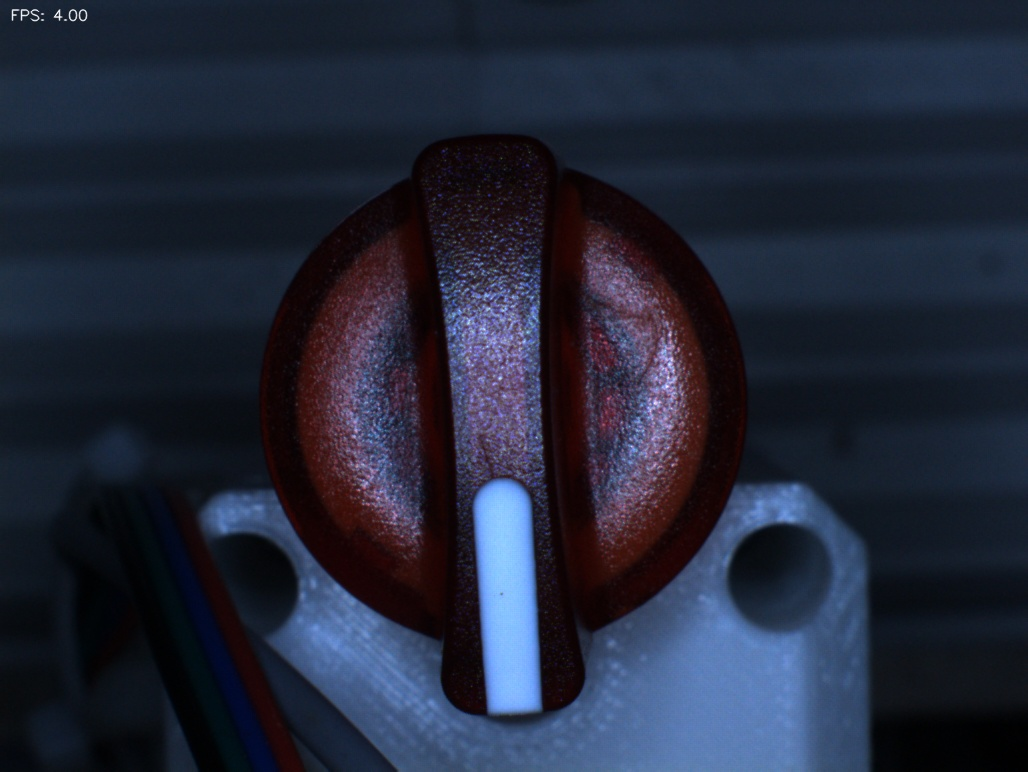PointNoir: (477, 568, 538, 630)
